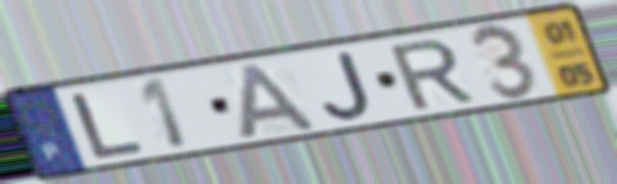1: (138, 74, 190, 154)
3: (470, 20, 540, 105)
A: (237, 60, 322, 141)
J: (318, 48, 376, 123)
L: (68, 90, 150, 162)
R: (384, 36, 478, 113)
